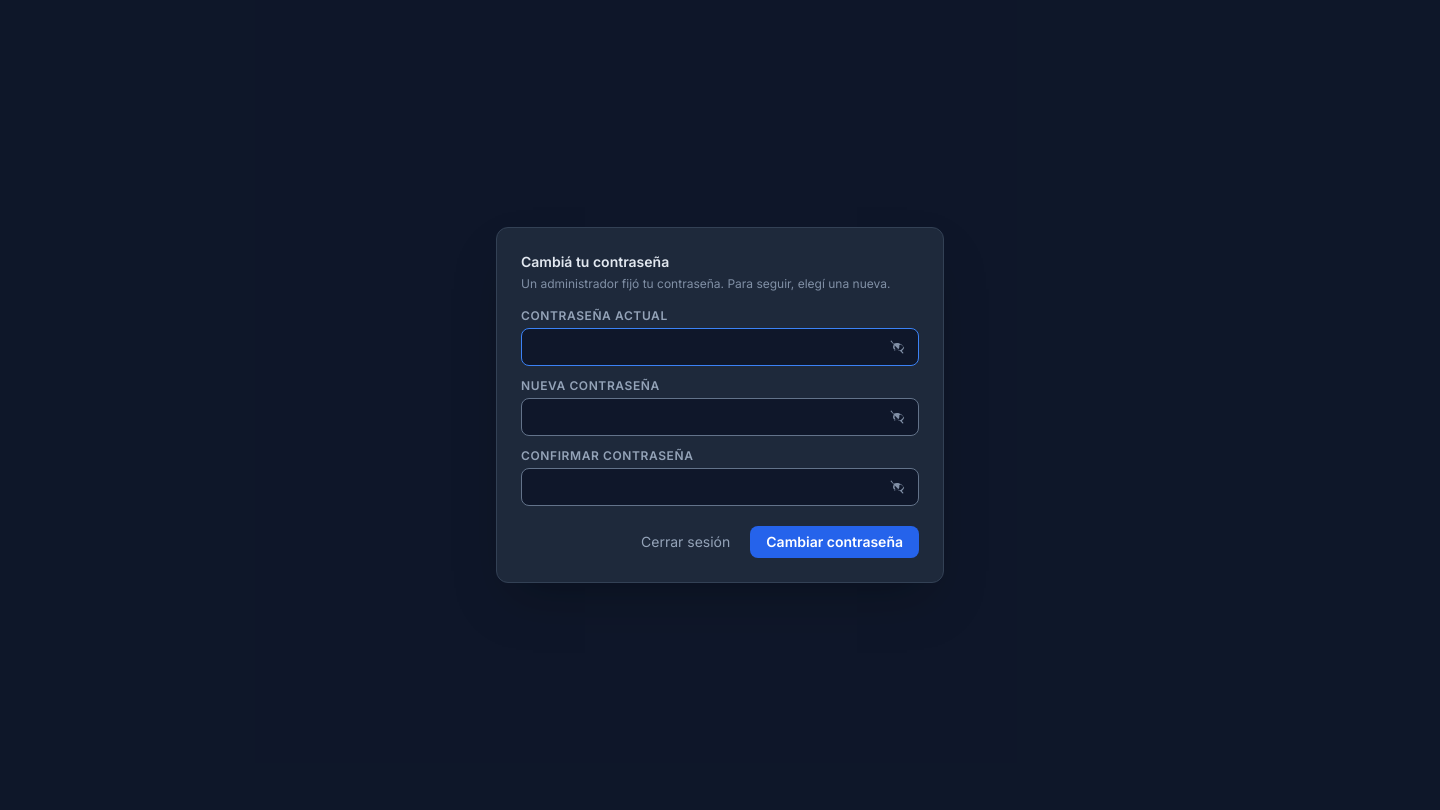
MiCuentaModal obligatorio (cambio exigido por el admin, U34) › la misma contraseña que fijó el admin se rechaza traducida
Type "fijada-por-admin" into the password field labelled "Contraseña actual" at (720, 347), box [521,328,919,366]
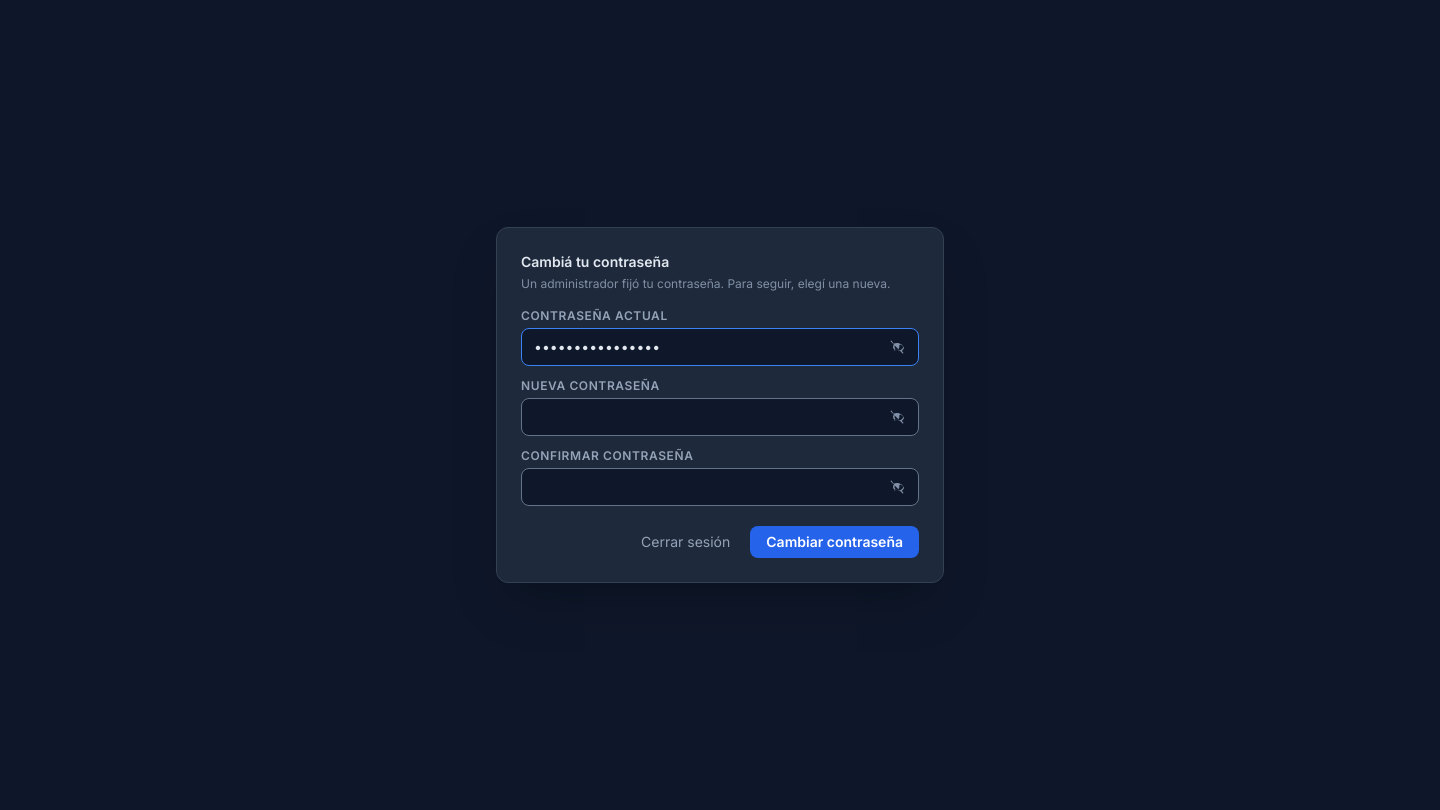
Type "fijada-por-admin" into the password field labelled "Nueva contraseña" at (720, 417), box [521,398,919,436]
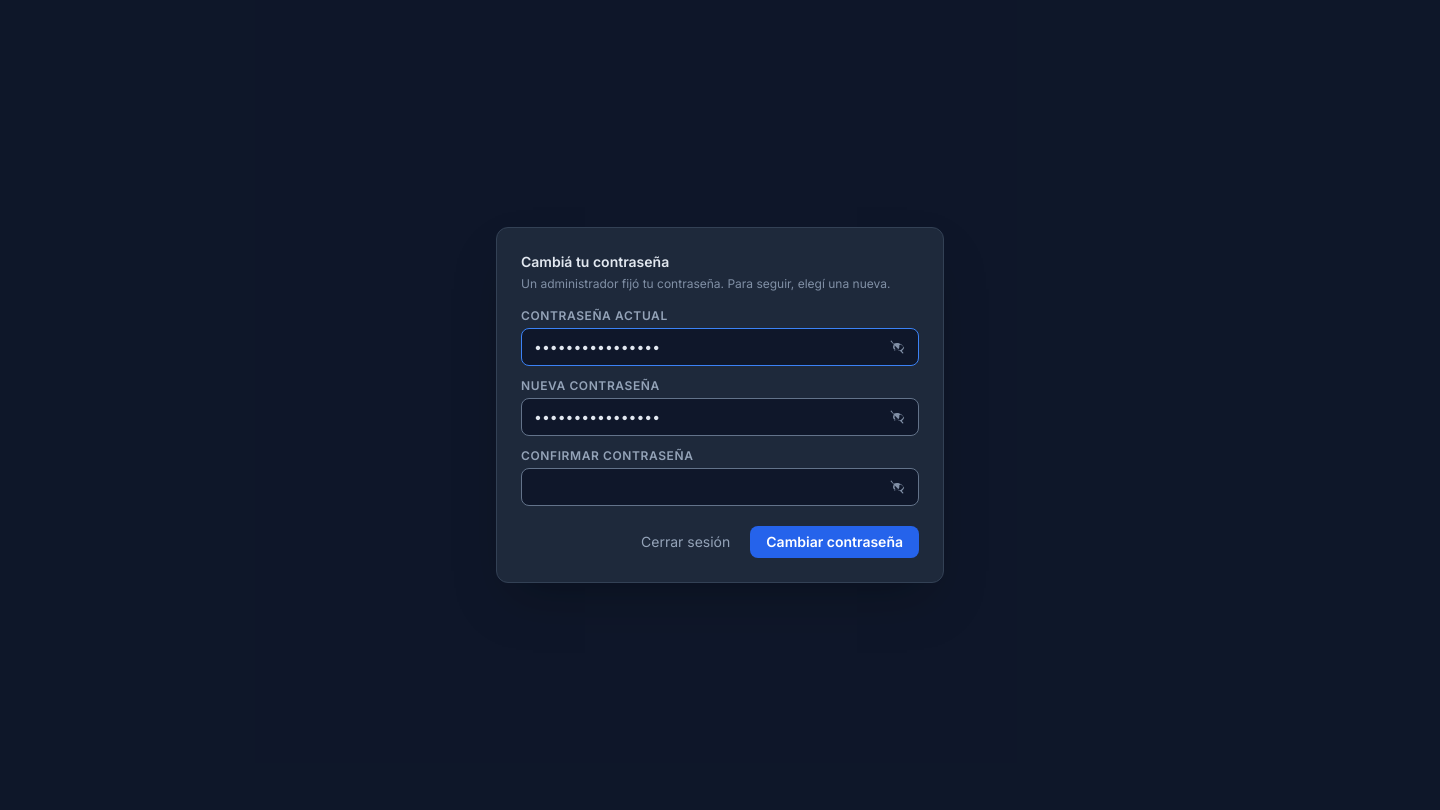
Type "fijada-por-admin" into the password field labelled "Confirmar contraseña" at (720, 487), box [521,468,919,506]
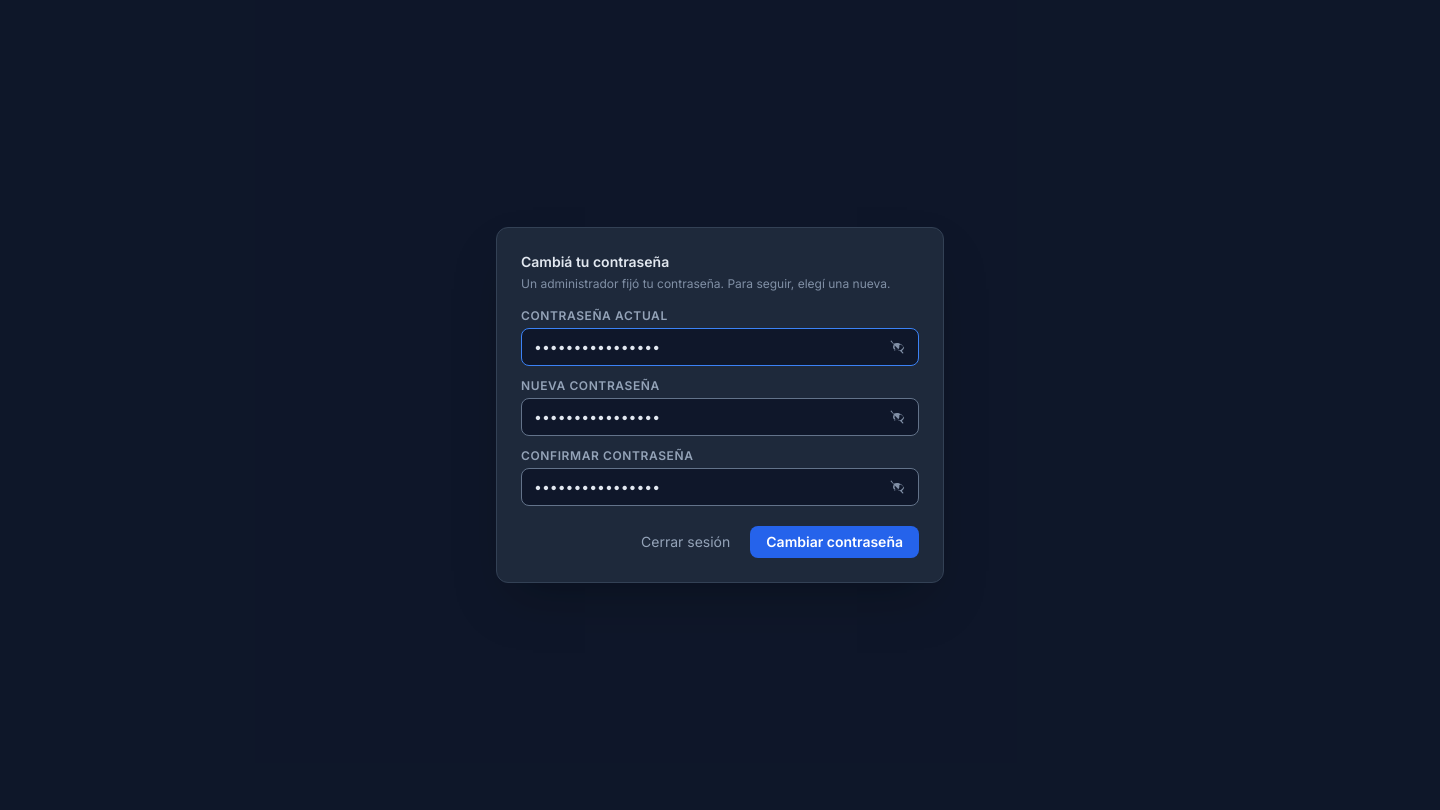
Click the button "Cambiar contraseña" at (835, 542), box [750,526,919,558]
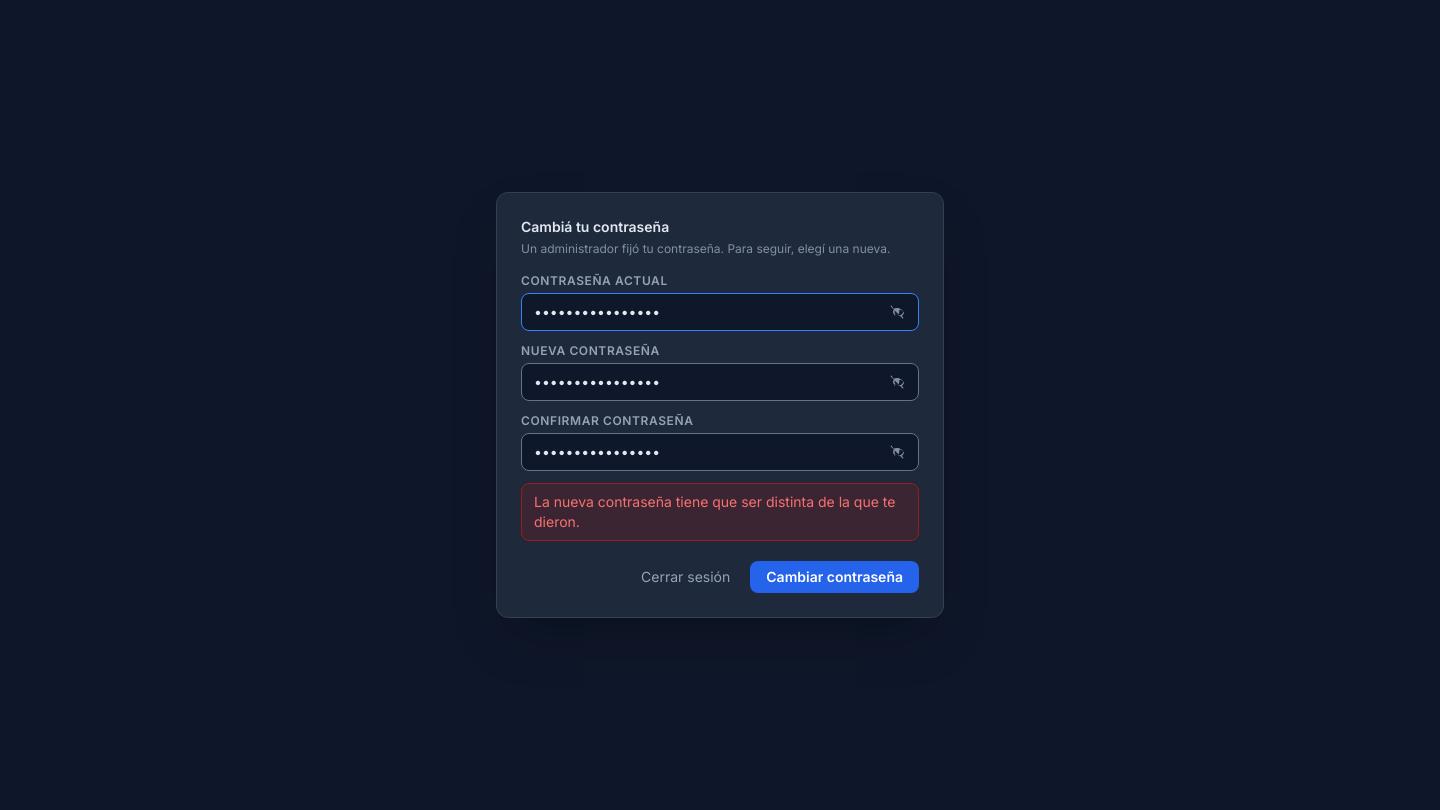
Now the text "La nueva contraseña tiene que ser distinta de la que te dieron." is shown, box [521,483,919,541]
